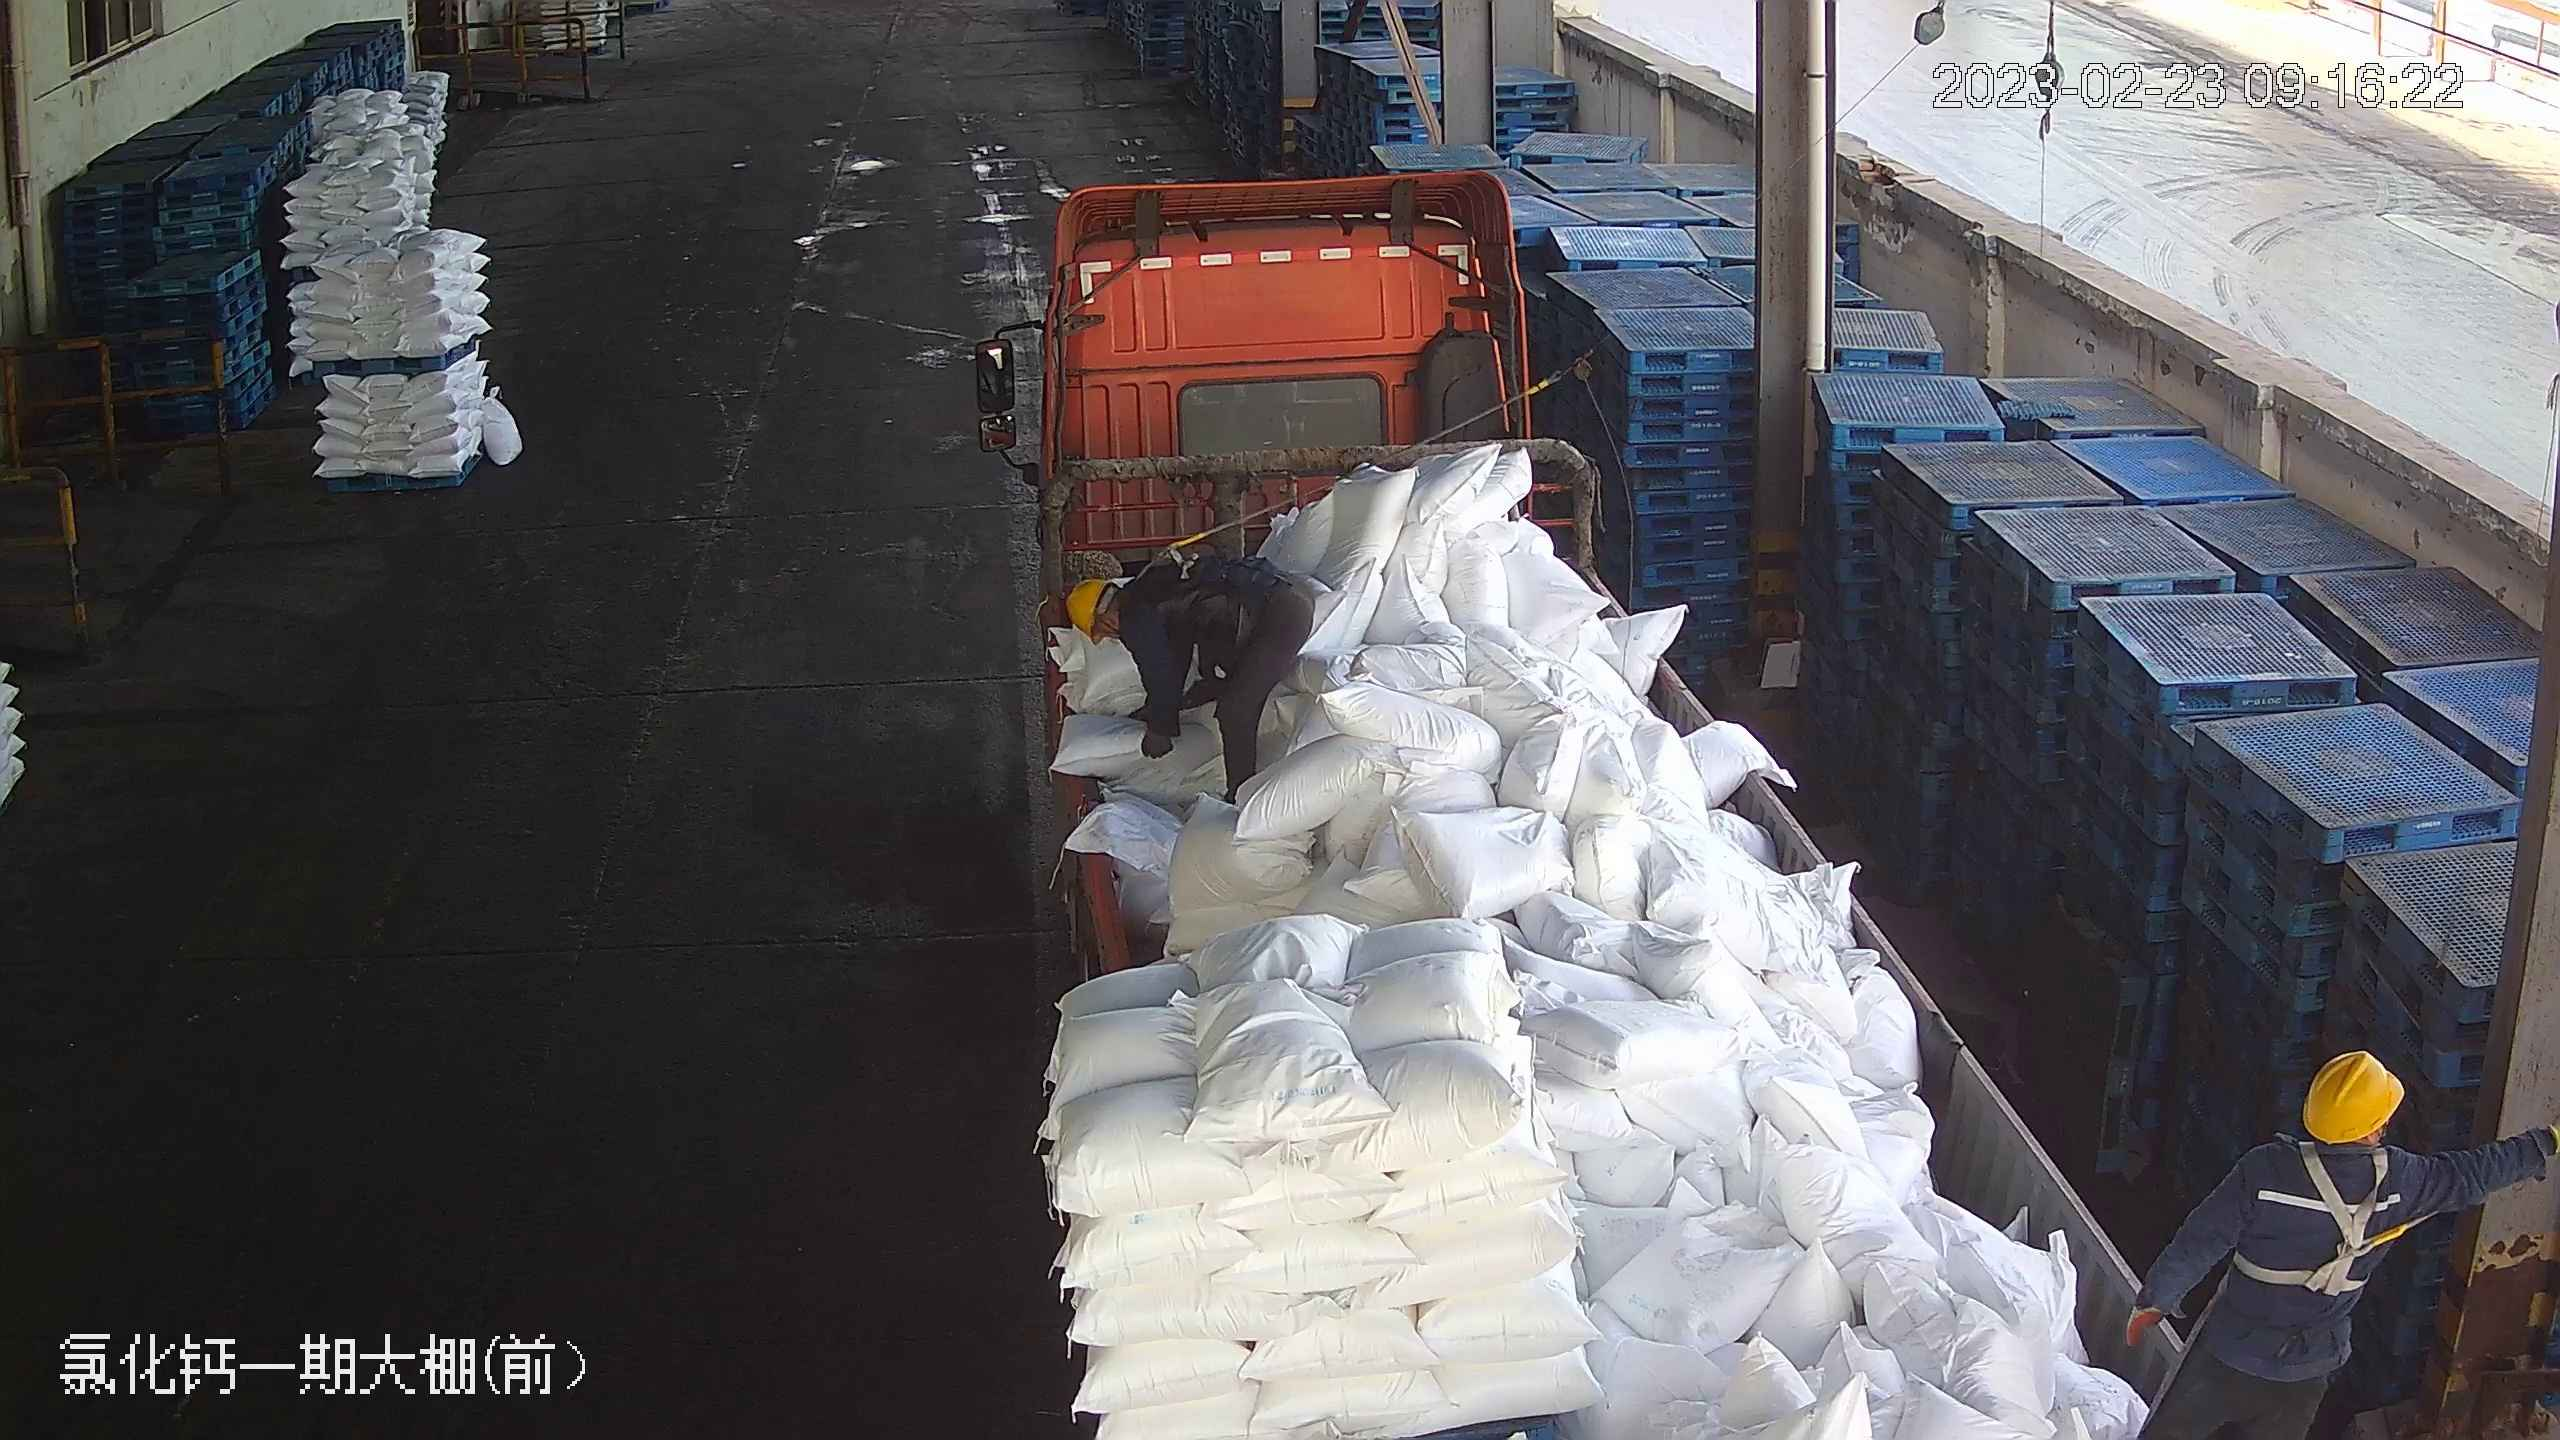belt: (2242, 1138, 2407, 1302), (1129, 532, 1233, 597)
head: (2207, 1047, 2439, 1252), (1056, 557, 1211, 684)
helmet: (2302, 1048, 2403, 1143), (1064, 573, 1113, 643)
people: (2112, 1045, 2447, 1436), (1054, 548, 1319, 815)
truck: (973, 171, 2218, 1431)
